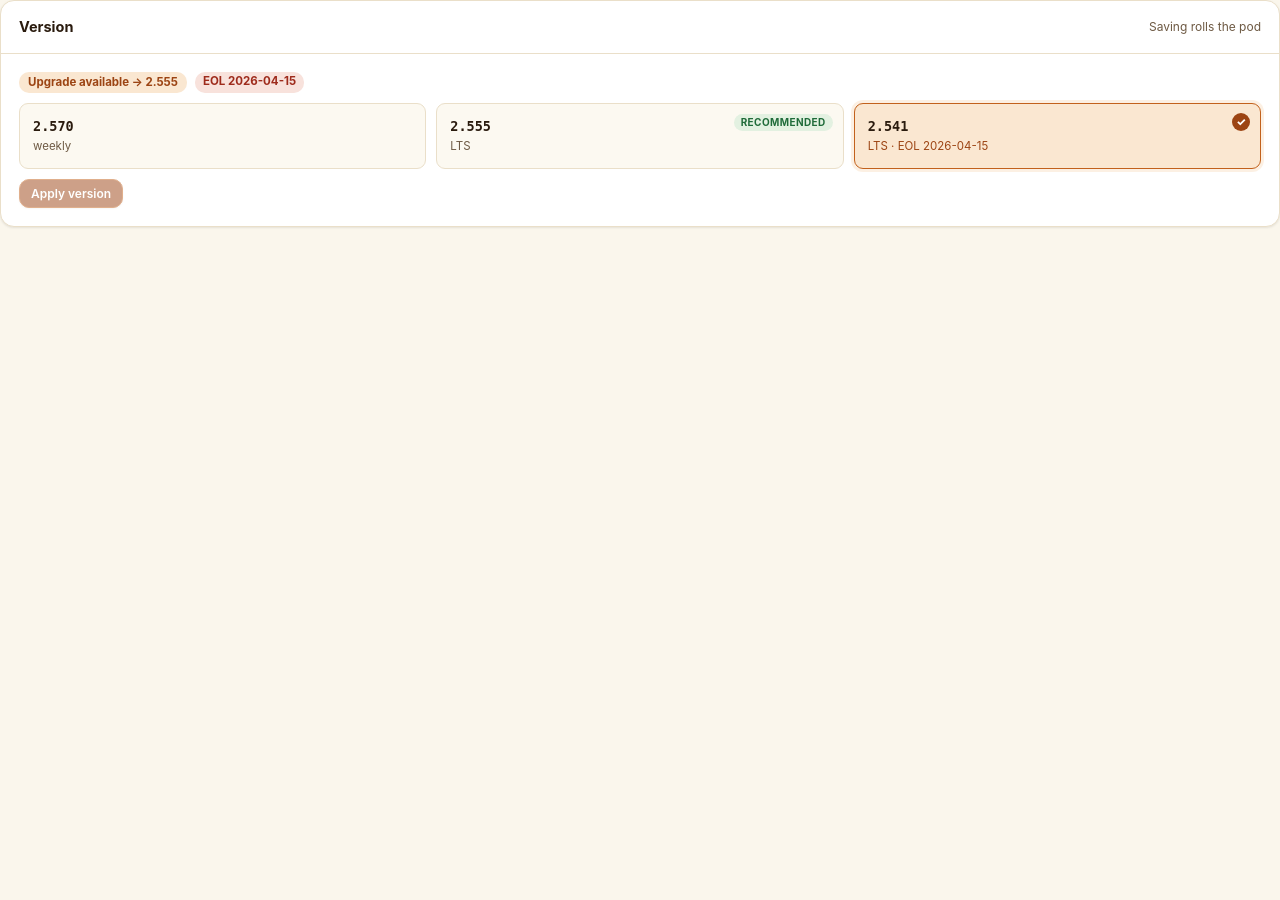
Scenario: VersionCard › renders inline preflight-fail checks from a 400 and does not throw
The width and height of the screenshot is (1280, 900).
What coordinates should you click on to do the following:
click the text "2.555"
I would click on:
 (471, 126)
Its box is [450,118,491,134].
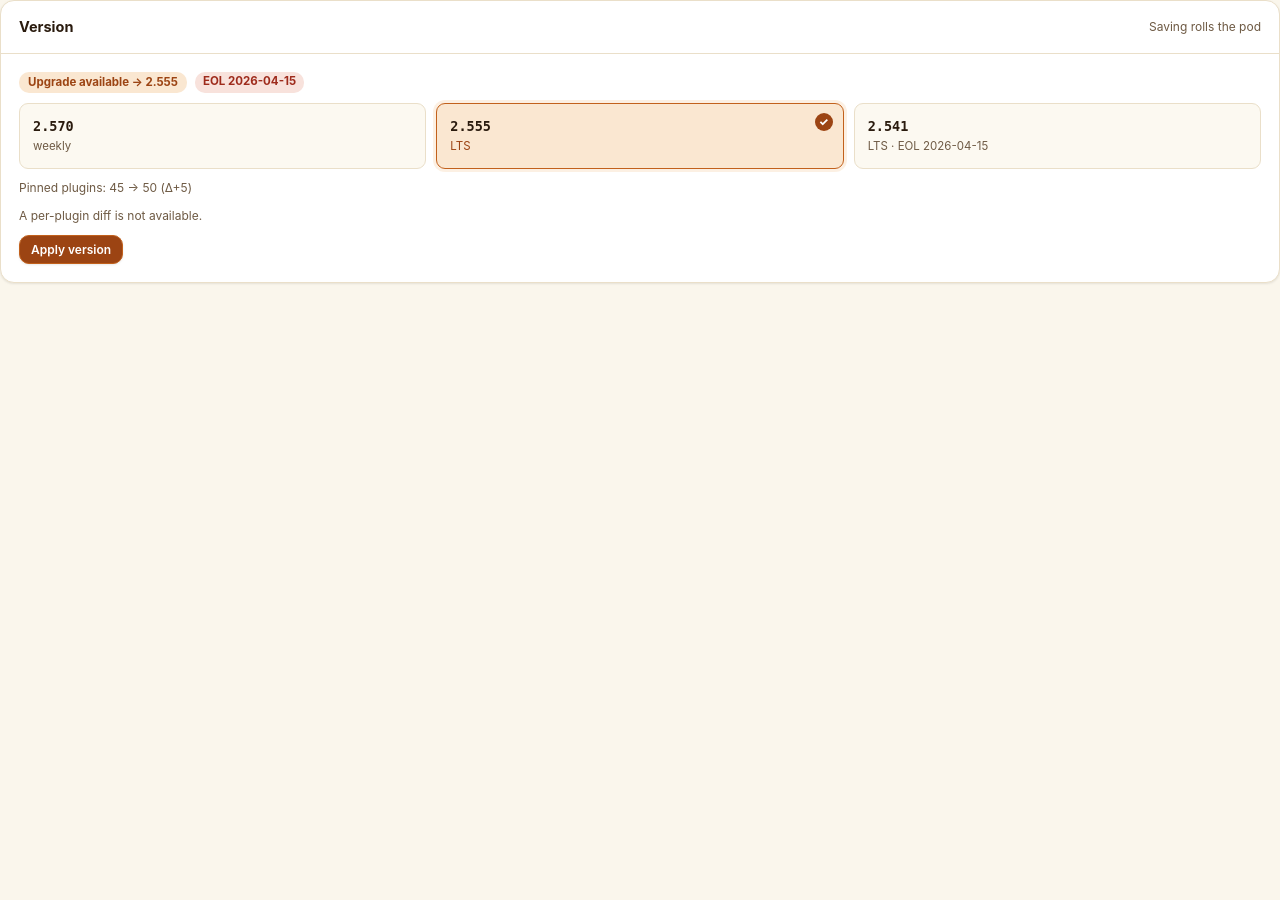
What coordinates should you click on to do the following:
click the button "Apply version"
I would click on:
 (71, 249)
Its box is [19,234,123,264].
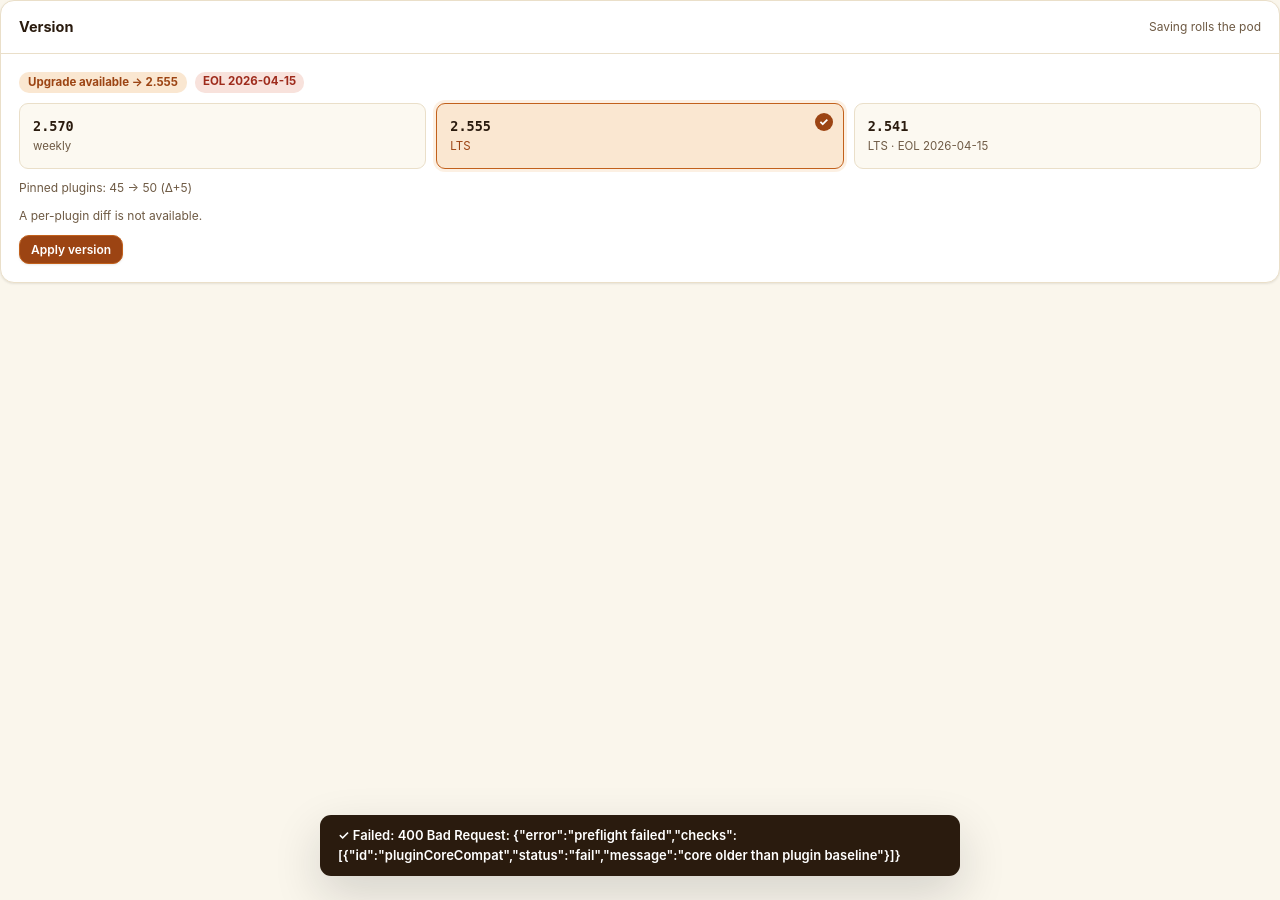
expect the text "core older than plugin baseline" is shown: met, box [338,827,901,862]
